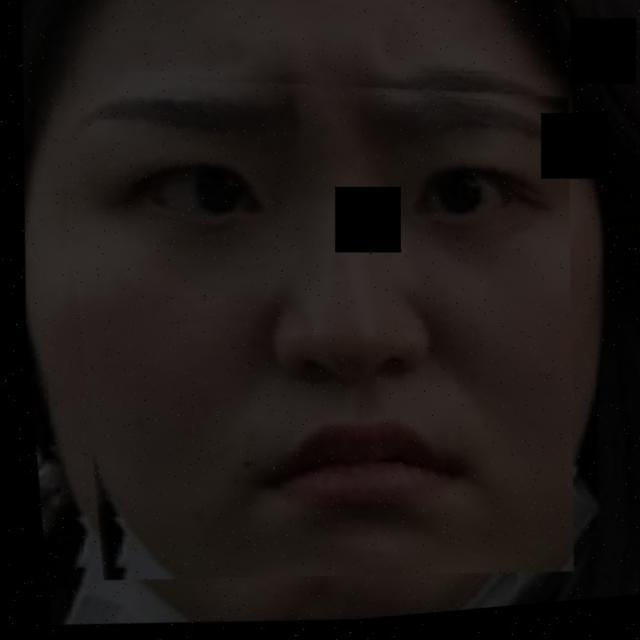Disgust: (56, 50, 620, 574)
